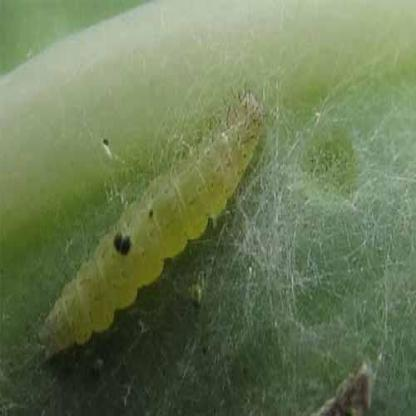armyworm: (15, 57, 311, 398)
